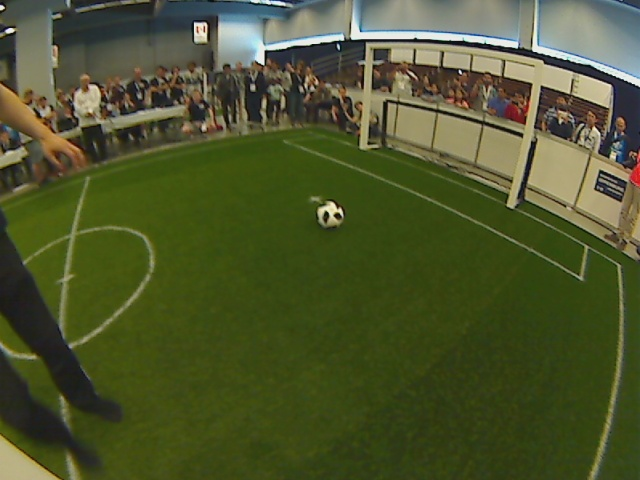ball: (313, 198, 346, 228)
